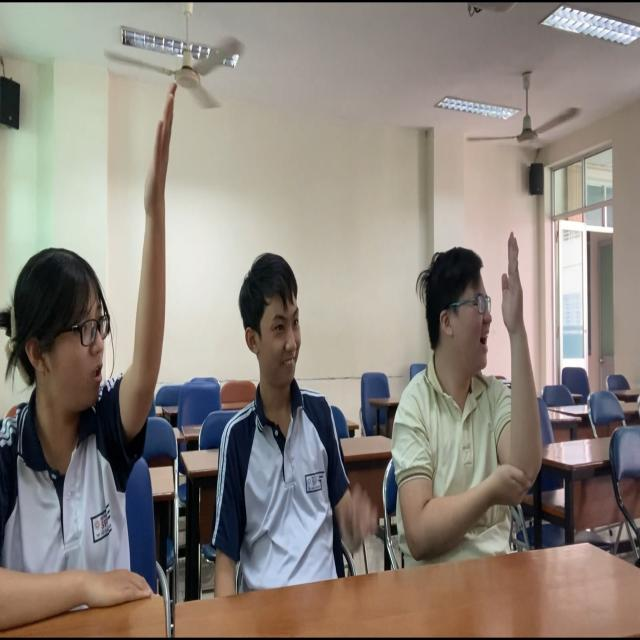raise_hand: (6, 1, 181, 640), (393, 227, 549, 590)
